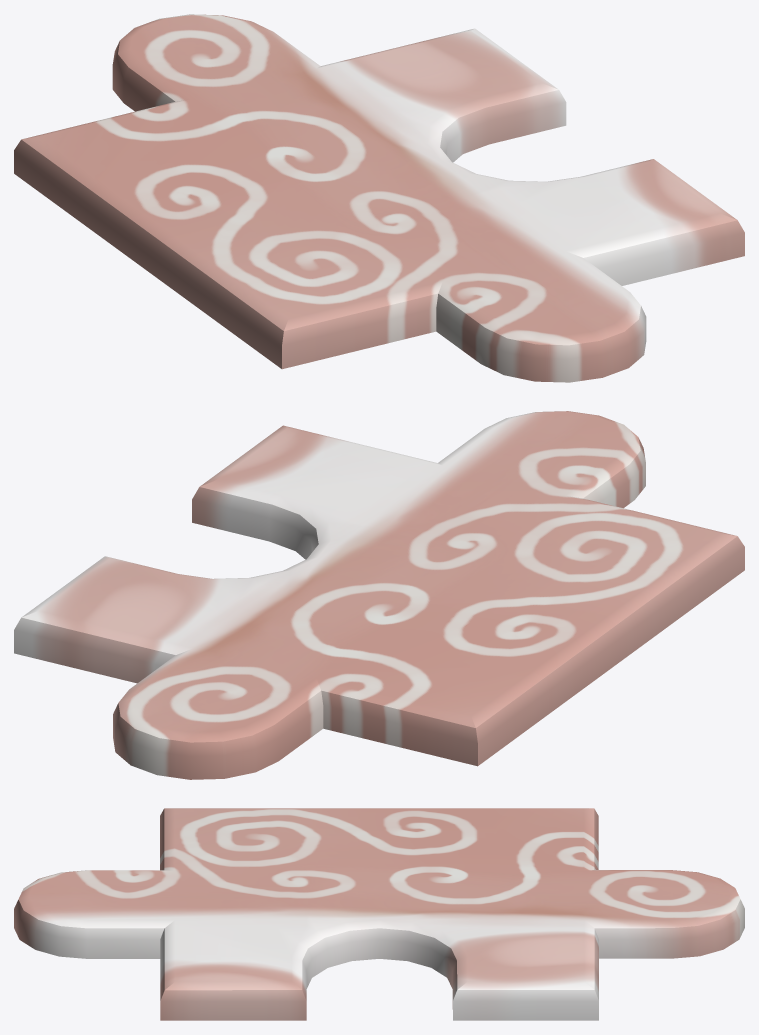
The model's file is puzzle4.fbx.
3 views of the same model, one above another, from view 1: azimuth 30°, elevation 25°; view 2: azimuth 150°, elevation 25°; view 3: azimuth 270°, elevation 25° (orthographic). The views are drawn at different scales.
Visible parts, largest first — view 1: polySurface5; view 2: polySurface5; view 3: polySurface5.
Boxes of the visible parts, x1,y1,x2,y2 form: polySurface5: (14, 14, 744, 382); polySurface5: (14, 411, 744, 779); polySurface5: (14, 808, 744, 1020).
Bounding box in the file's own units: 1 × 0.0821 × 1.67.
